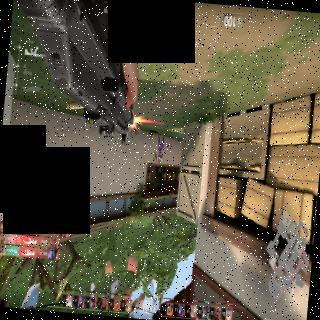ENEMY-BODY: (154, 130, 166, 168)
ENEMY-HEAD: (158, 161, 160, 167)
